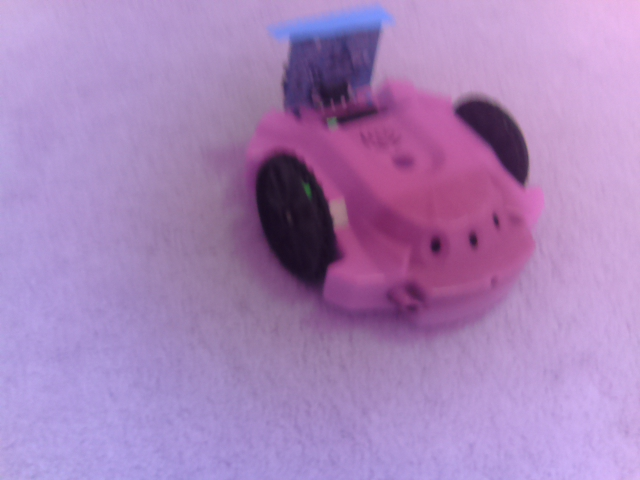board: (263, 9, 393, 112)
chassis: (241, 7, 552, 337)
